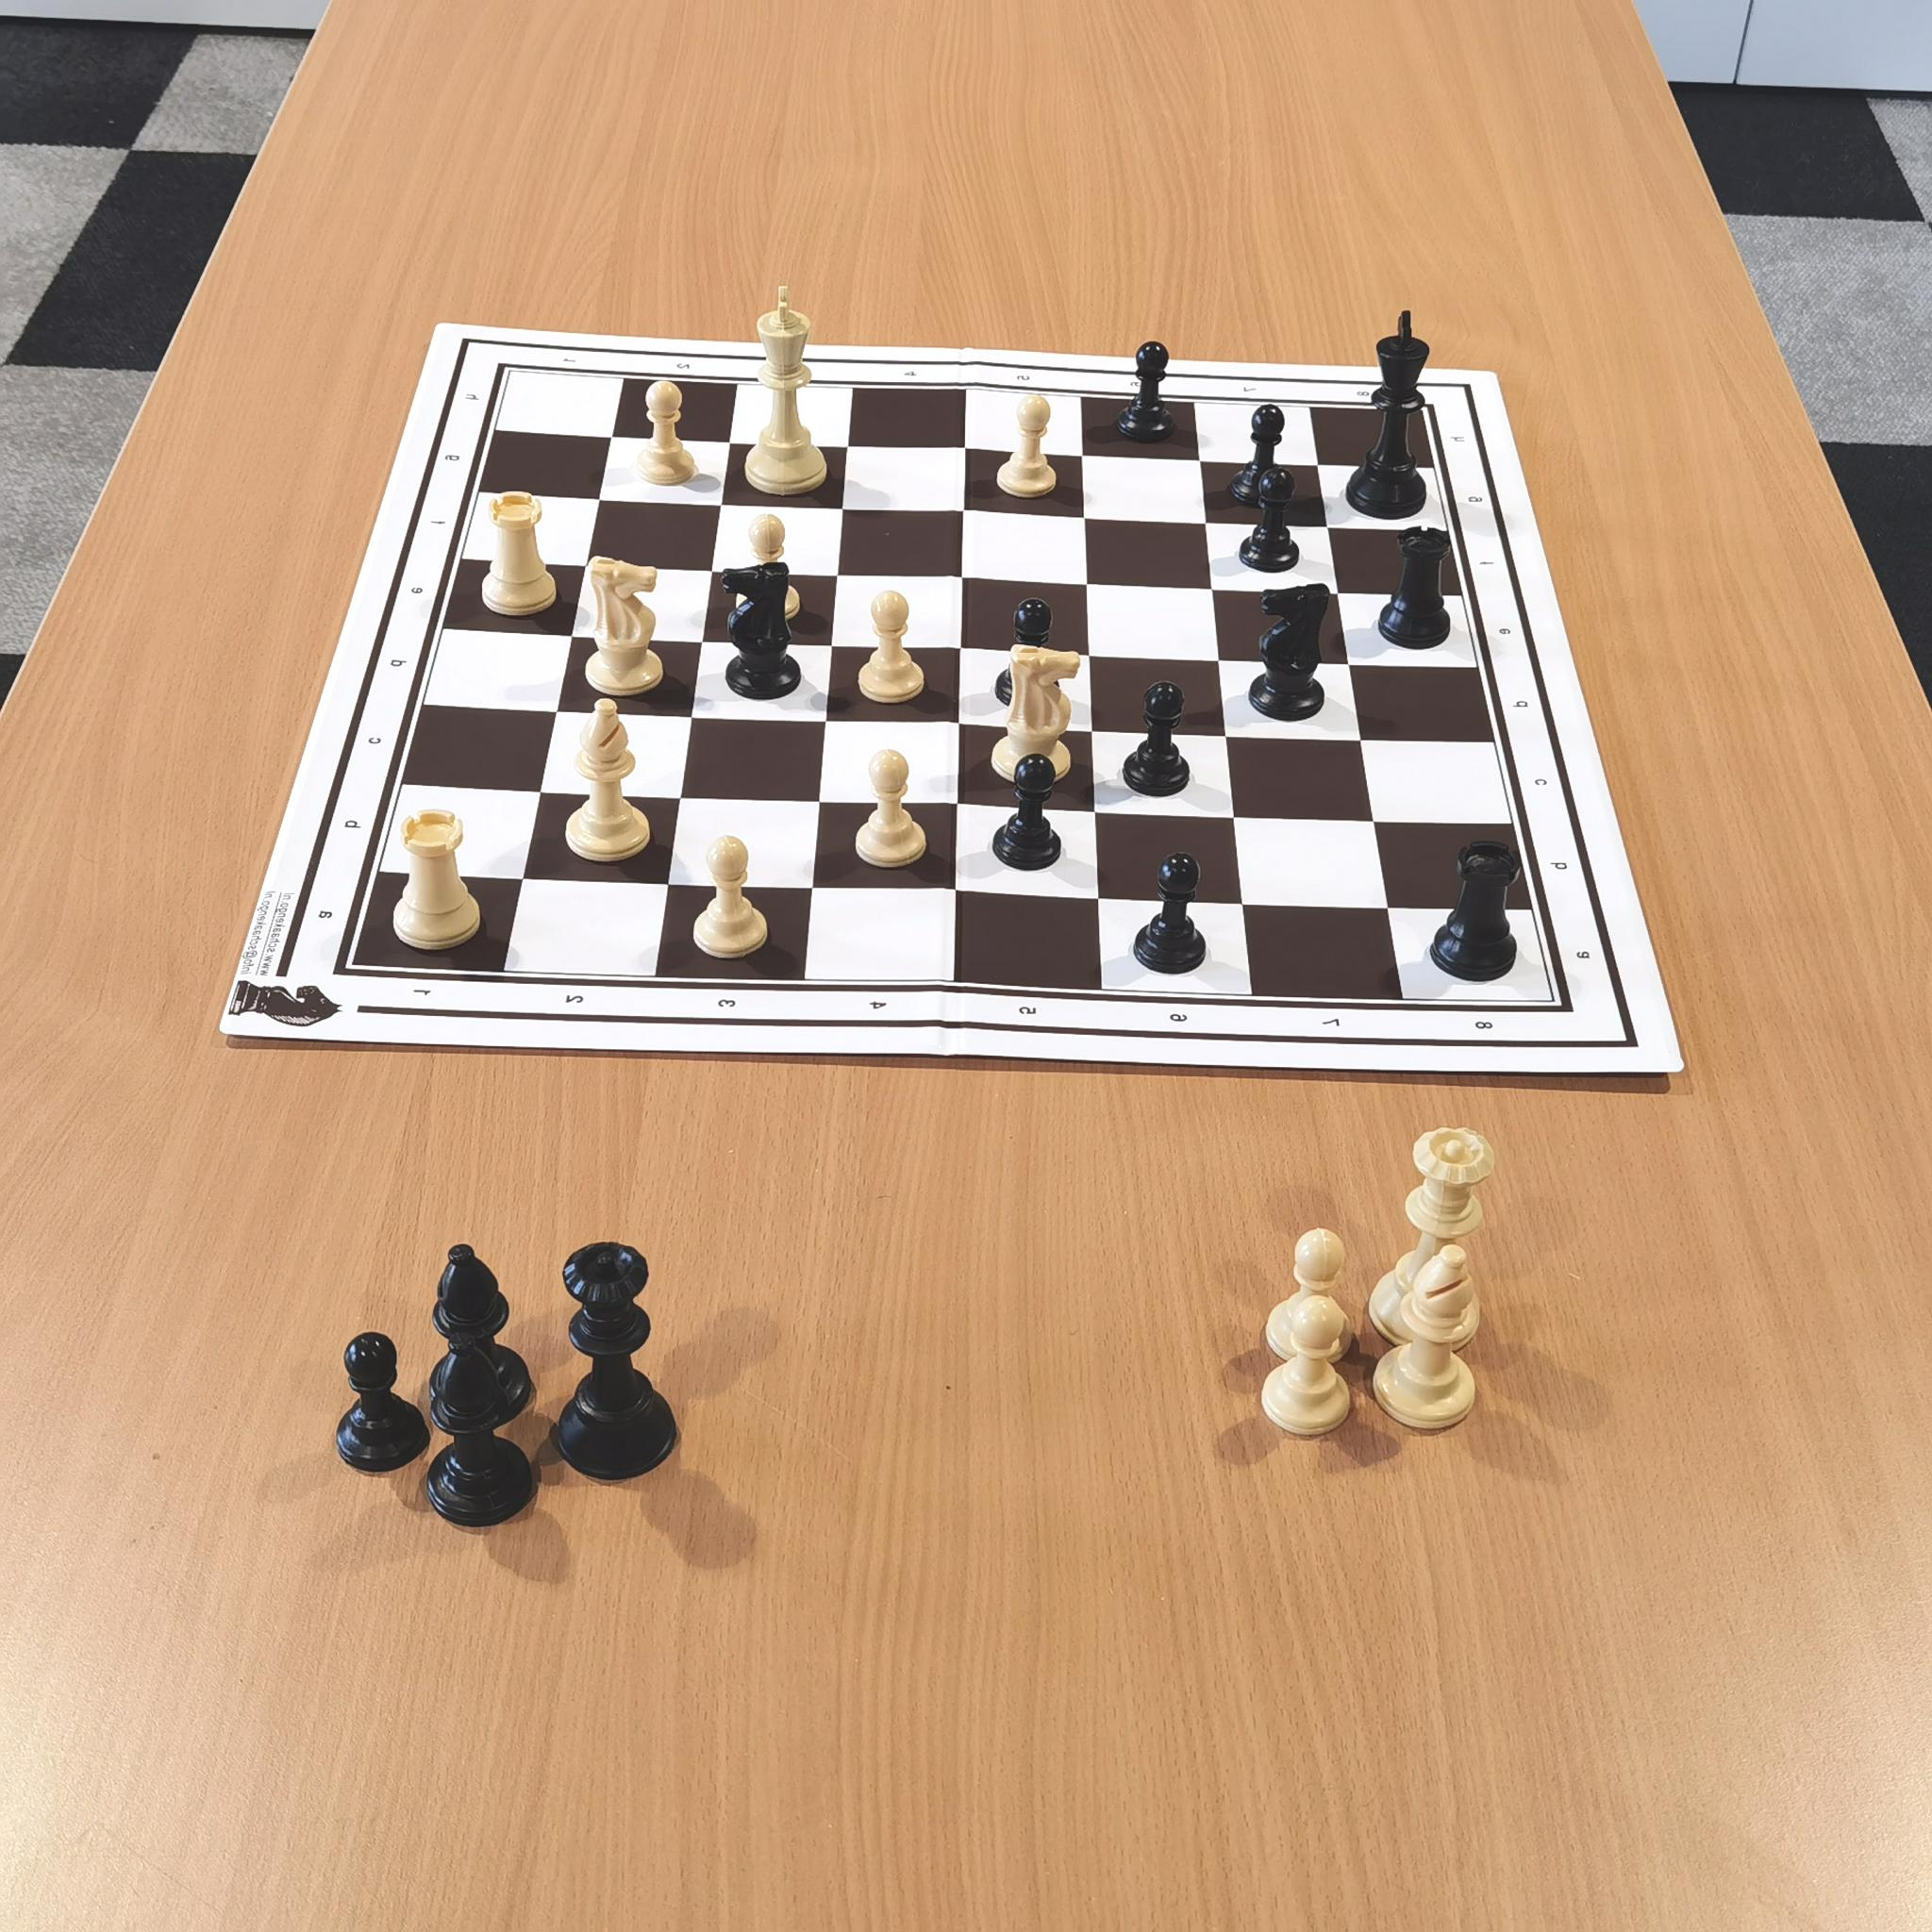corners: (490, 350, 535, 393), (1541, 995, 1585, 1035), (320, 948, 360, 989), (1407, 396, 1440, 429)
eight: (1464, 1006, 1504, 1049), (1347, 384, 1379, 410)
one: (545, 340, 583, 379), (398, 971, 438, 1008)
